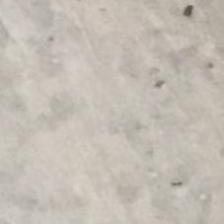Non_Crack: (15, 9, 224, 214)
